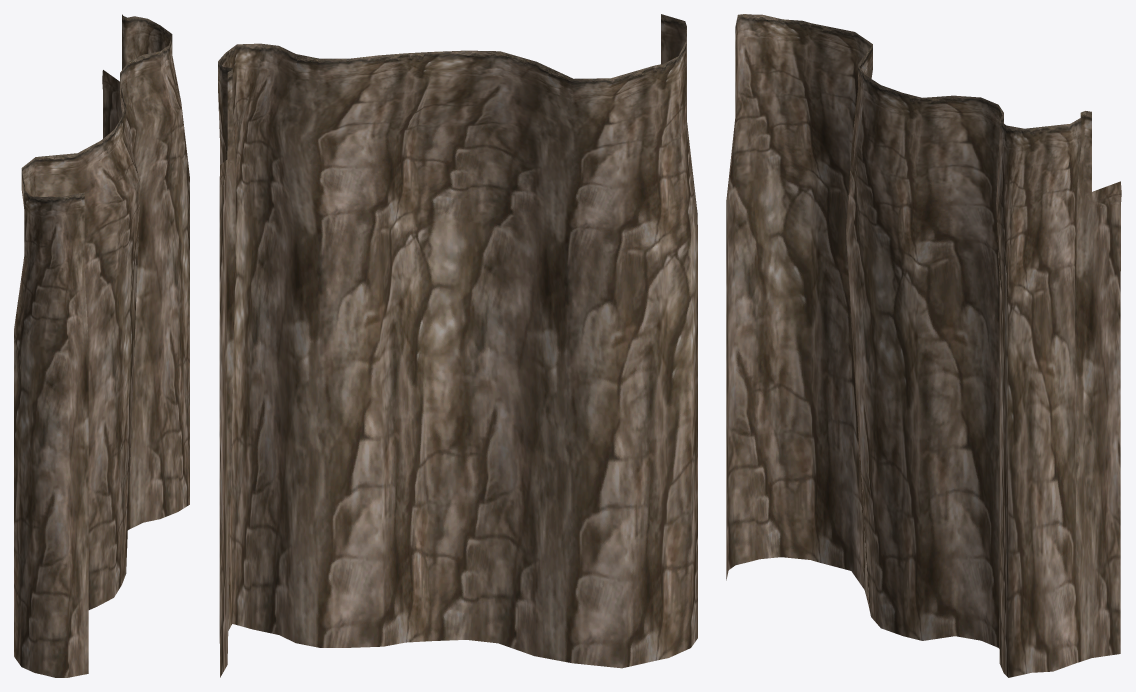
File: OVERHILL_A_01_LINE97.fbx
3 renders of one model, left to right at view 1: azimuth 30°, elevation 25°; view 2: azimuth 150°, elevation 25°; view 3: azimuth 270°, elevation 25°, orthographic. The views are drawn at different scales.
Parts seen in each view (by area): view 1: OVERHILL_A_01_LINE97; view 2: OVERHILL_A_01_LINE97; view 3: OVERHILL_A_01_LINE97.
Part boxes in pixels (left/top/right/bottom): OVERHILL_A_01_LINE97: left=14, top=14, right=189, bottom=677; OVERHILL_A_01_LINE97: left=218, top=14, right=697, bottom=677; OVERHILL_A_01_LINE97: left=726, top=14, right=1121, bottom=677.
Bounding box in the file's own units: 131066 × 234323 × 145216.
Materials: 2 (2 with a texture image).
